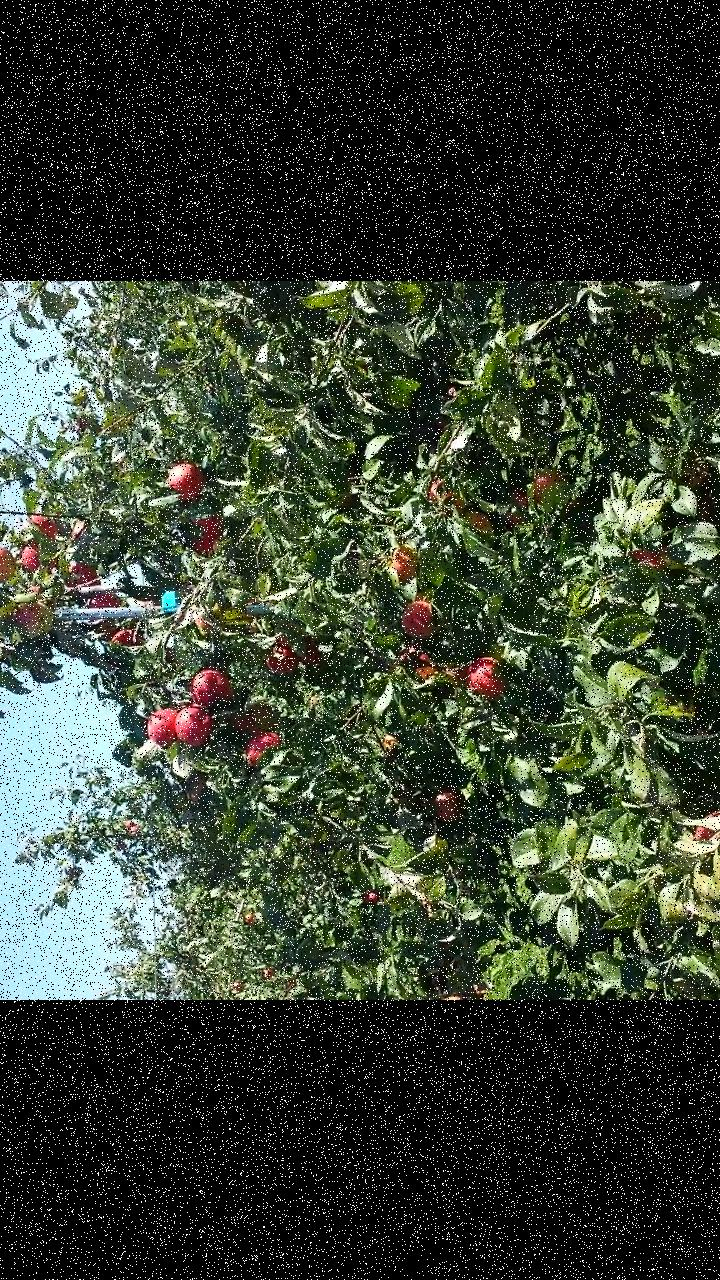Apple: (465, 657, 506, 703), (694, 808, 719, 879), (175, 704, 216, 746), (190, 668, 233, 707), (164, 462, 206, 501), (397, 642, 438, 680), (264, 634, 300, 677), (399, 599, 435, 642), (242, 729, 280, 769), (14, 600, 52, 639), (189, 515, 225, 556), (146, 706, 179, 750), (427, 476, 465, 511), (388, 542, 418, 585), (62, 558, 102, 589), (503, 488, 531, 526), (21, 542, 55, 572), (434, 789, 462, 824), (27, 512, 58, 542), (533, 470, 561, 503), (0, 544, 18, 587), (232, 712, 260, 739), (464, 510, 495, 533), (629, 549, 663, 569), (83, 590, 122, 607), (298, 640, 320, 668), (248, 704, 271, 730), (109, 629, 140, 648), (188, 773, 205, 804), (71, 518, 88, 539), (196, 611, 212, 633)
